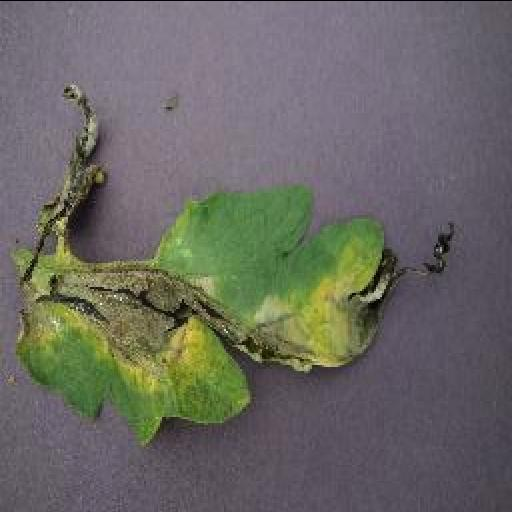disease_tomato: (14, 80, 452, 446)
